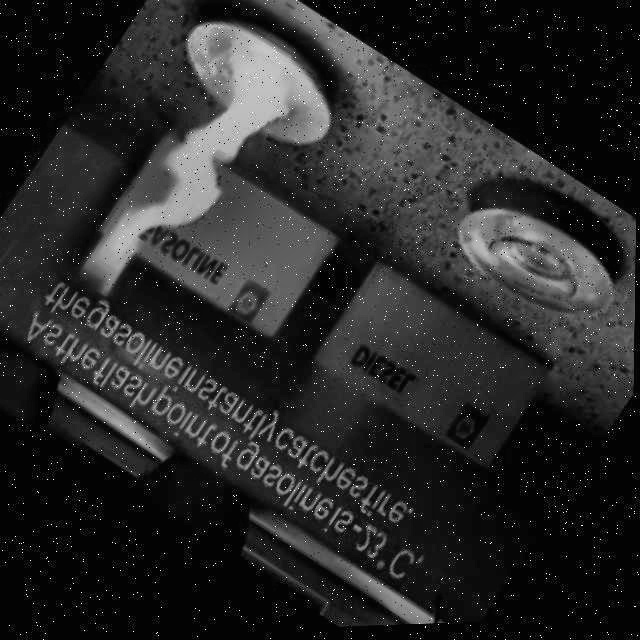Fire: (47, 10, 326, 340)
